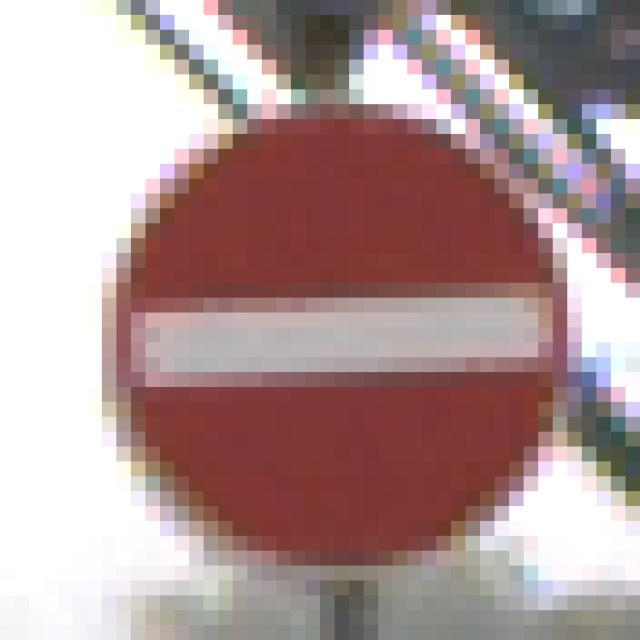no entry: (102, 102, 577, 570)
